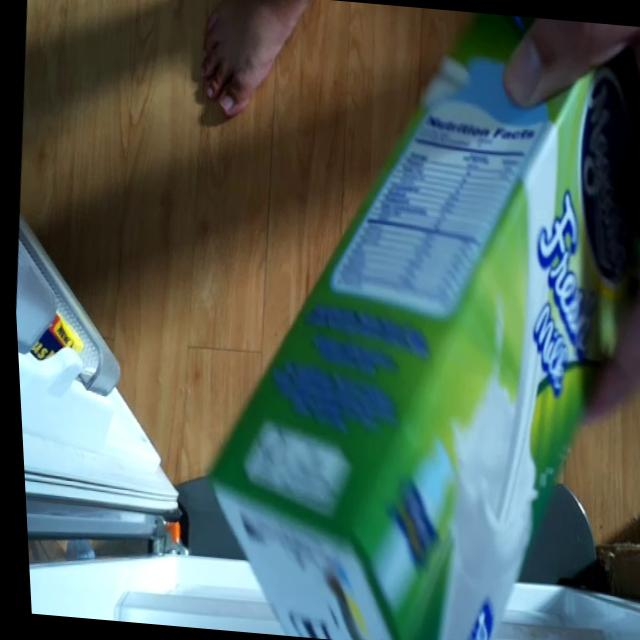milk: (161, 0, 640, 640)
